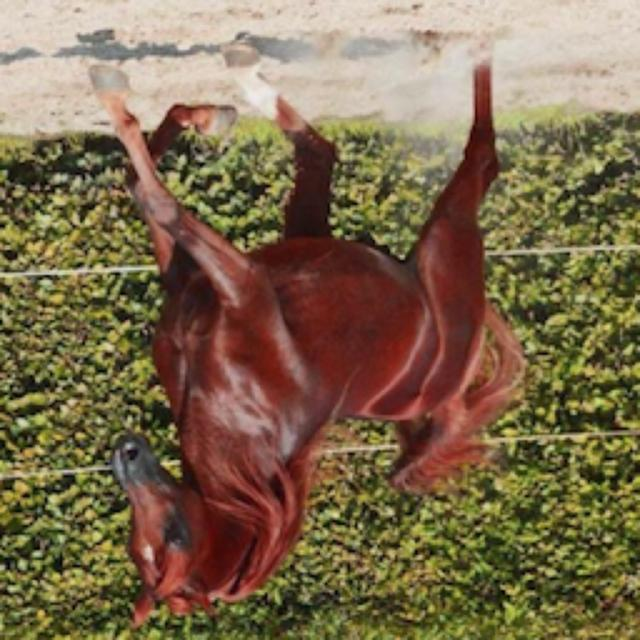Horse: (77, 38, 535, 630)
